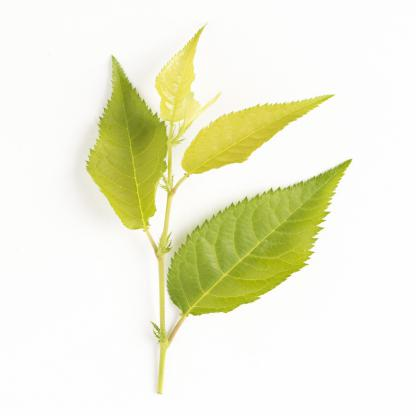cherry leaf: (167, 172, 351, 326), (77, 52, 171, 268), (179, 87, 335, 174)
